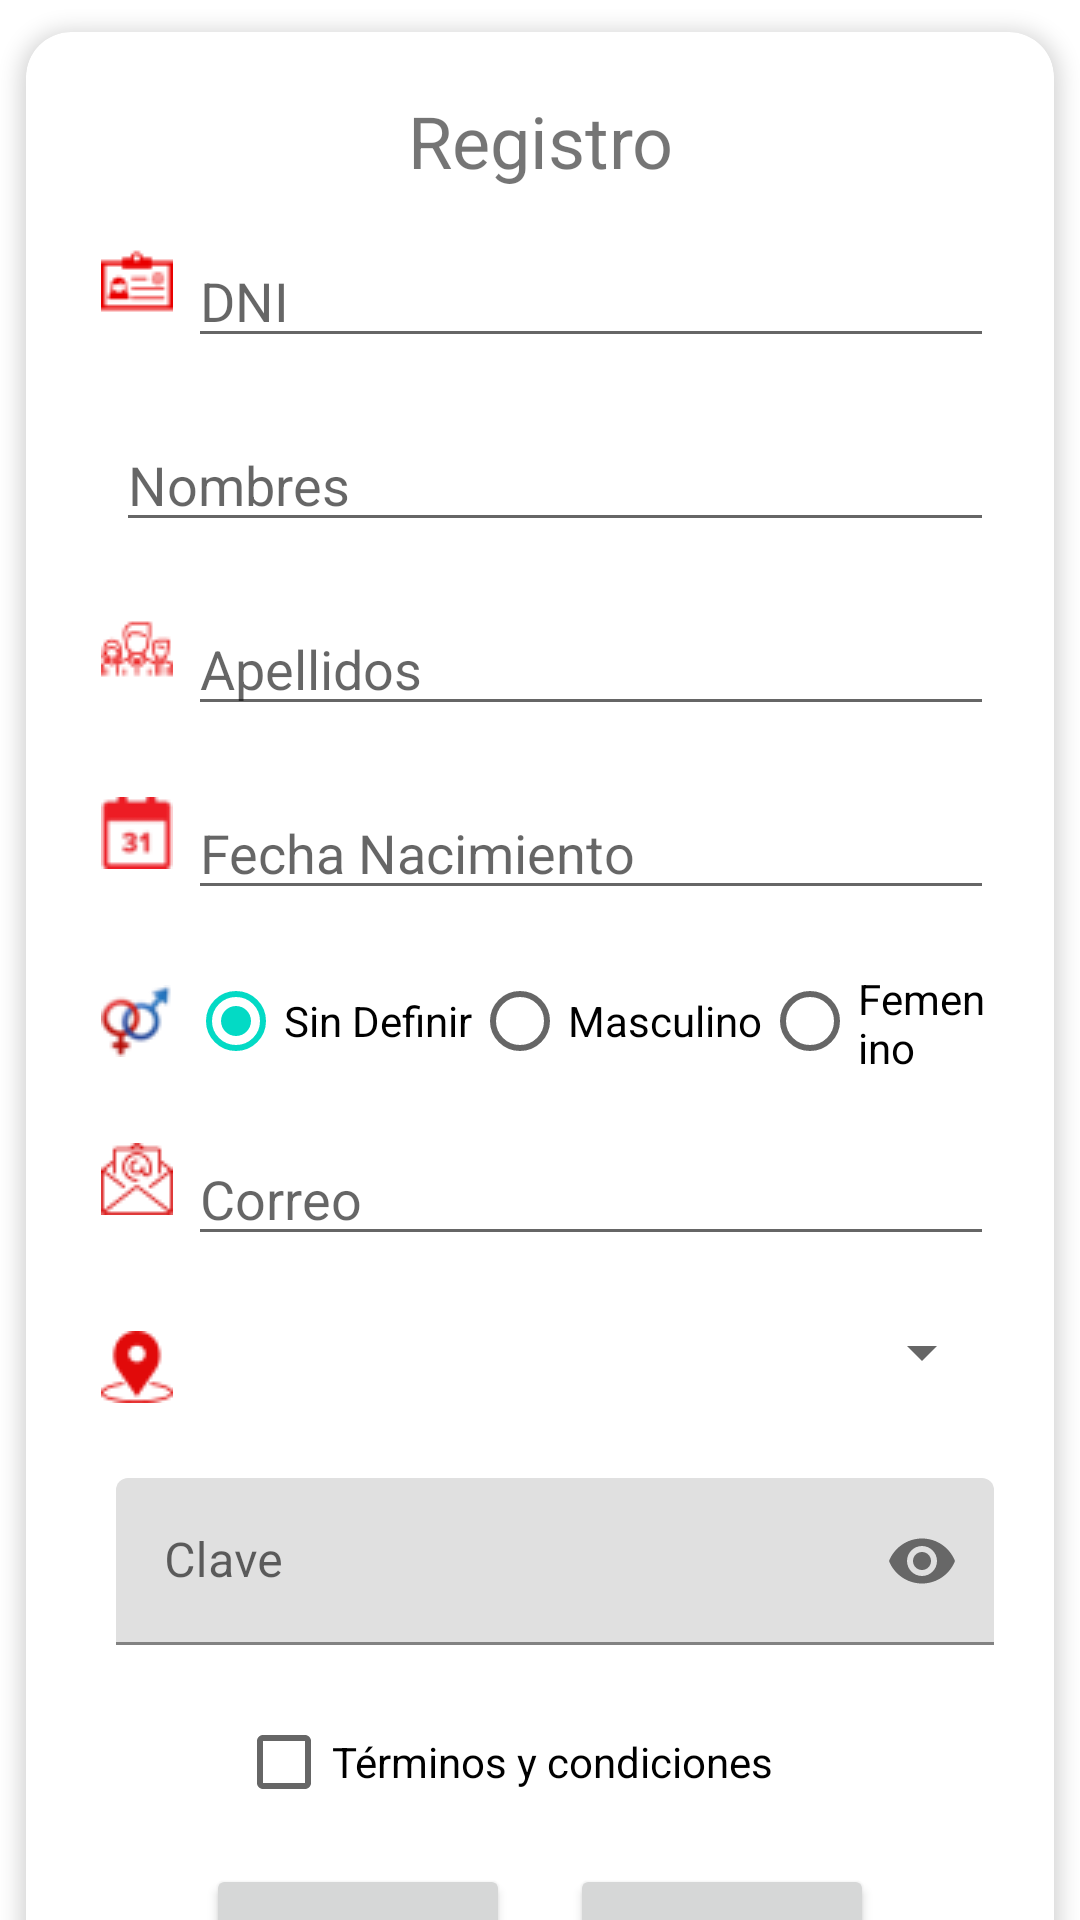

Icon click points for this 1080px x 1920px phone screenshot, format [x,y]:
distrito: [137,1367]
email: [137,1179]
sexo: [136,1022]
